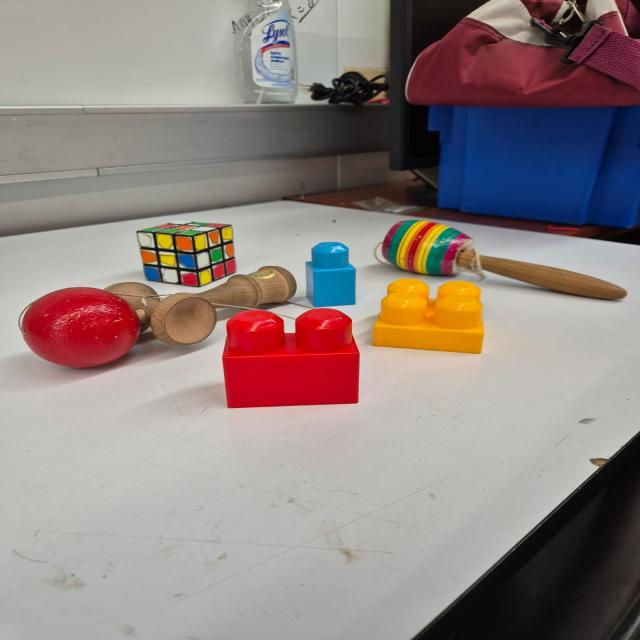balero: (378, 218, 631, 305)
balero ball: (17, 265, 305, 370)
lego 2: (222, 308, 358, 407)
lego 4: (370, 277, 480, 353)
lego_1: (305, 242, 356, 306)
rubick: (136, 221, 237, 287)
